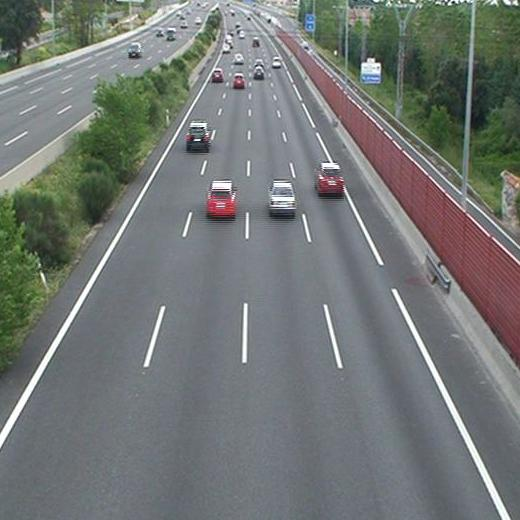car: (207, 182, 236, 216), (269, 182, 295, 214), (315, 164, 343, 193), (186, 123, 209, 148), (233, 74, 244, 89), (212, 70, 223, 81), (254, 67, 264, 79), (234, 53, 244, 65), (221, 44, 232, 53), (272, 56, 281, 66), (252, 37, 259, 48), (255, 59, 263, 66)
